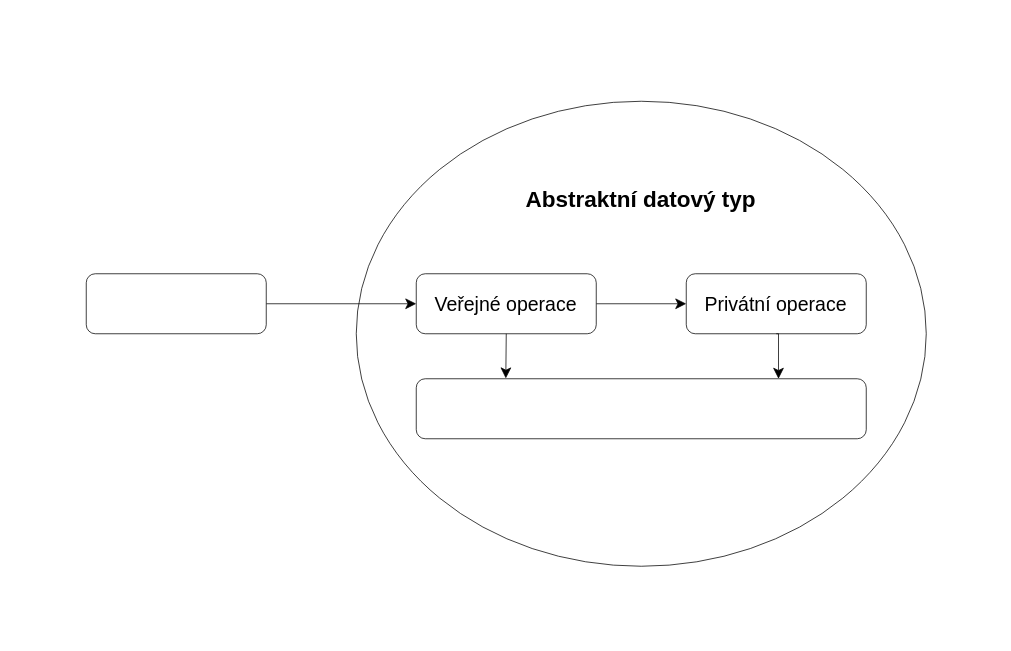
Image size: 1011x651. Some labels were removed from this diagram. The box of each missing label's shape, as (x1, y1, x2, y2) in pixels:
Datová struktura: (415, 378, 866, 438)
Program: (85, 273, 266, 333)
